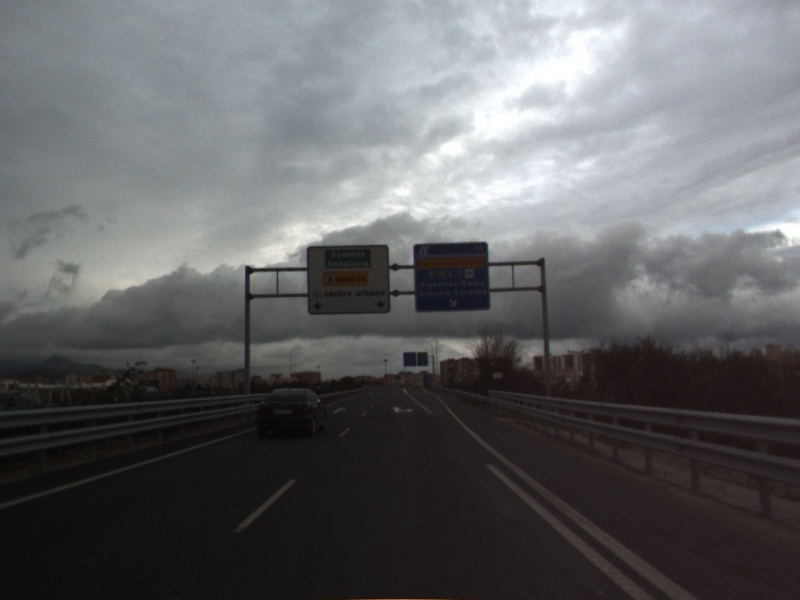STRAIGHT: (330, 405, 349, 416)
STRAIGHT_RIGHT: (389, 404, 416, 415)
